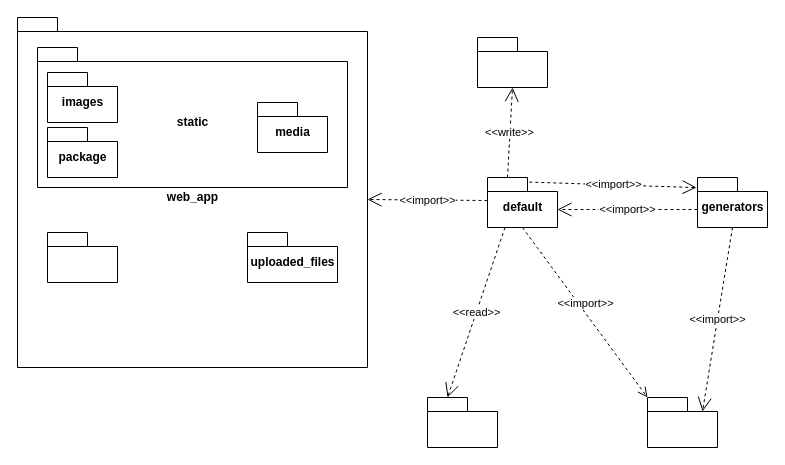
Some shapes in this 785 by 465 pixel diagram are drawn without their labels. Each missing label, with the centre of its shape:
"data" belongs at (462,422).
"models" belongs at (512,62).
"templates" belongs at (82,257).
"utilities" belongs at (682,422).
